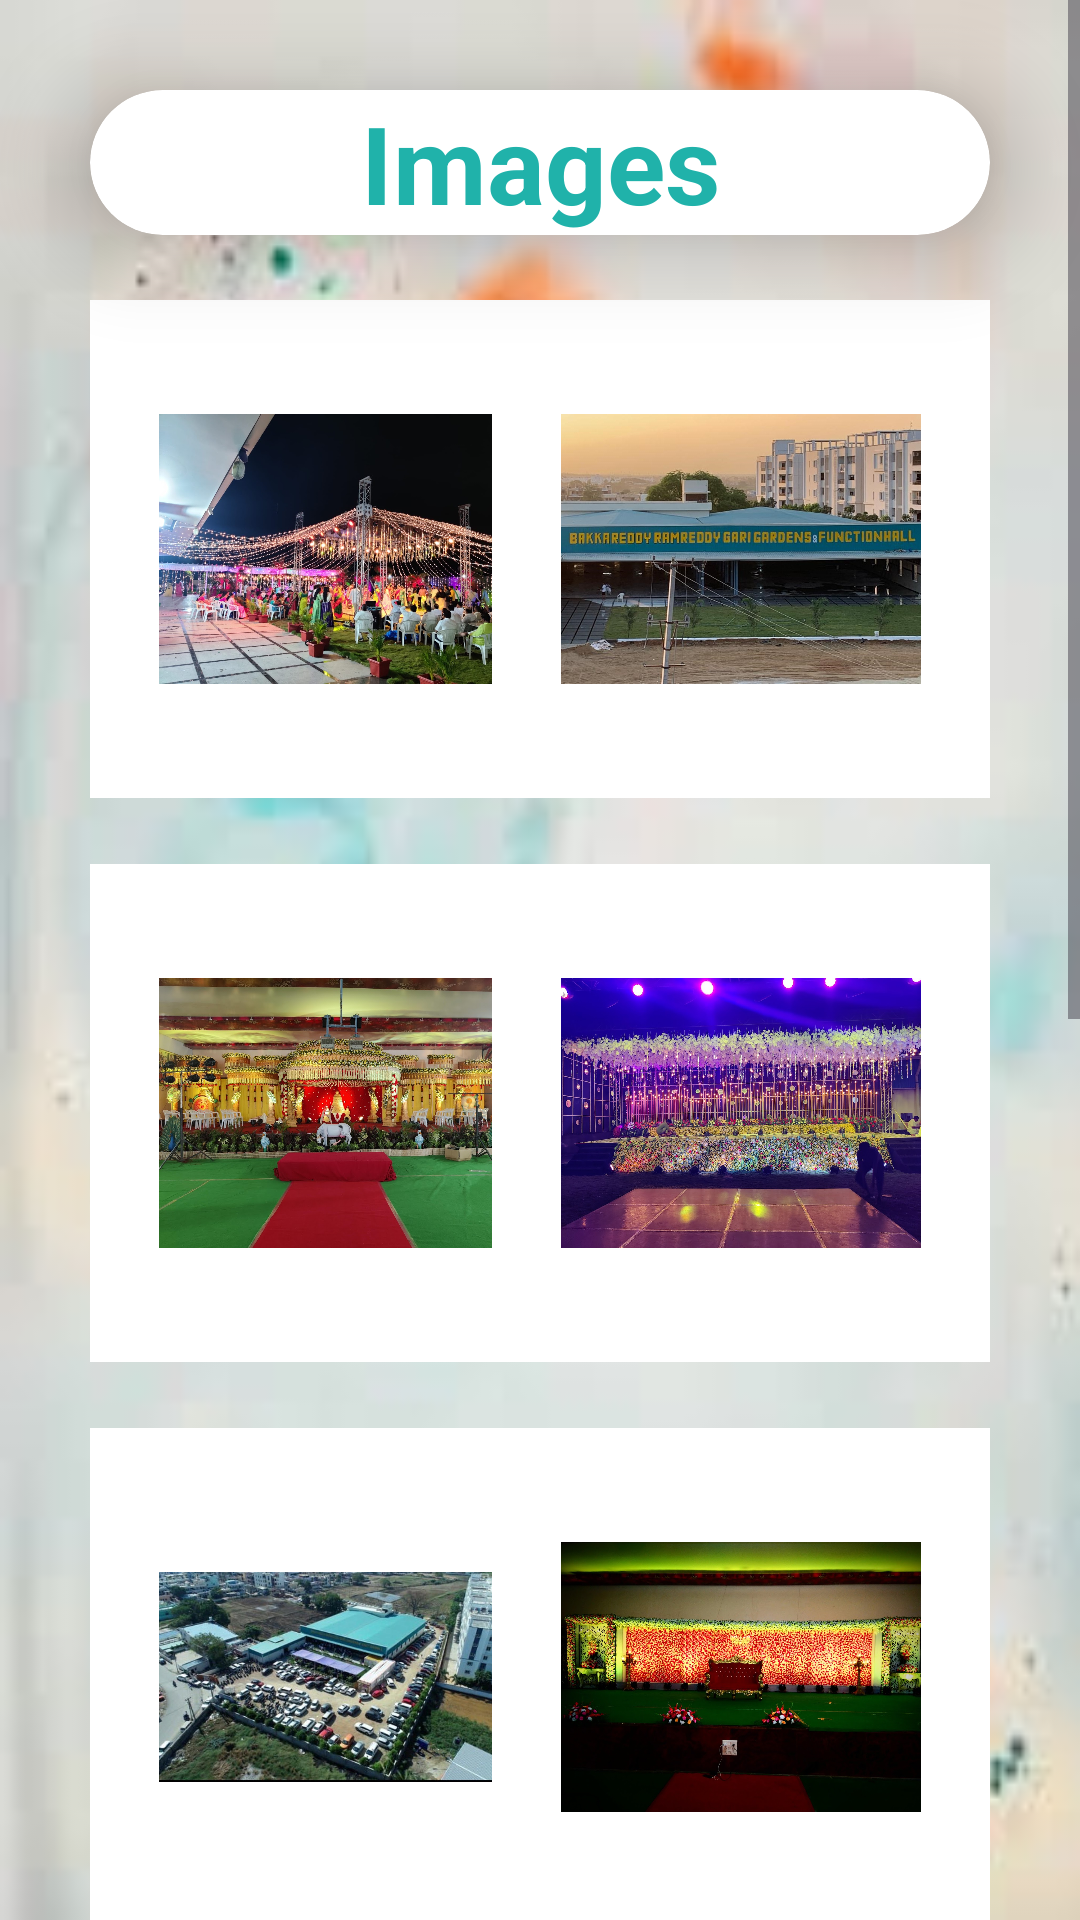

Icon bounding boxes for this 1080 x 1920 phone screenshot, format (x1, y1, x2, y2):
Img01: (159, 414, 492, 684)
Img02: (561, 414, 921, 684)
Img03: (159, 978, 492, 1248)
Img04: (561, 978, 921, 1248)
Img05: (159, 1572, 492, 1782)
Img06: (561, 1542, 921, 1812)
